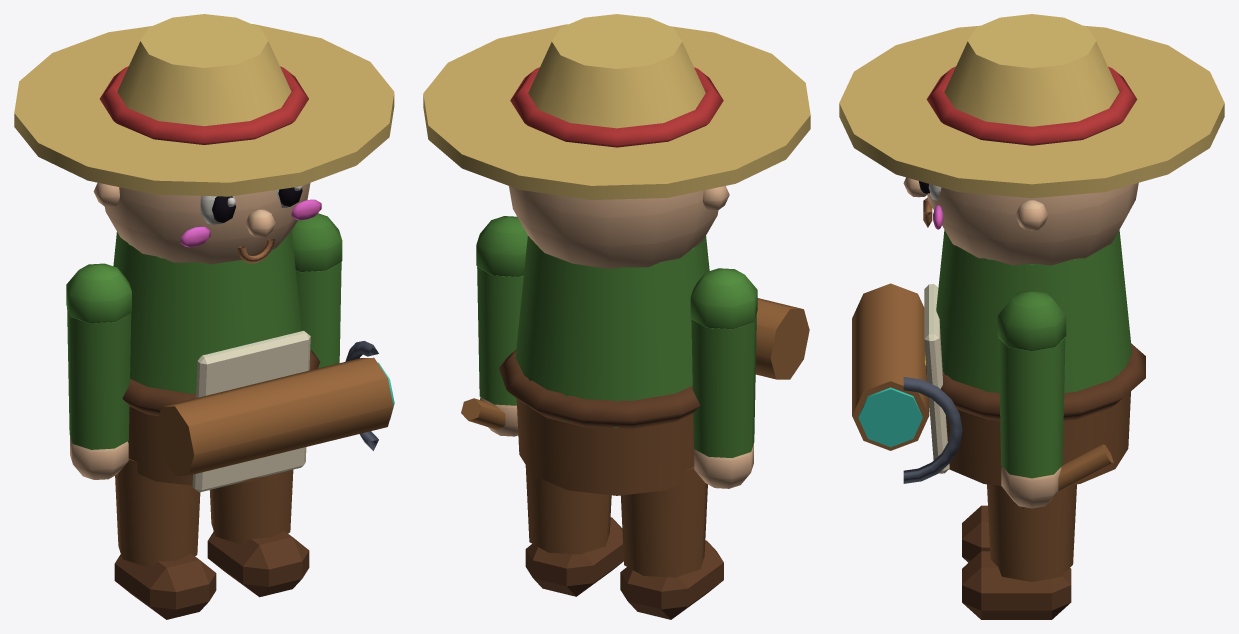
File: villager_farmer.glb
The picture shows the model from 3 angles, left to right: view 1: azimuth 30°, elevation 25°; view 2: azimuth 150°, elevation 25°; view 3: azimuth 270°, elevation 25°; orthographic projection.
Parts seen in each view (by area): view 1: body_t0_palette, carry_t0_palette, arml_t0_palette, legl_t0_palette, legr_t0_palette, armr_t0_palette; view 2: body_t0_palette, arml_t0_palette, legl_t0_palette, legr_t0_palette, armr_t0_palette, carry_t0_palette; view 3: body_t0_palette, armr_t0_palette, legr_t0_palette, carry_t0_palette, legl_t0_palette.
Boxes of the visible parts, x1,y1,x2,y2 form: body_t0_palette: [14, 14, 394, 492]; carry_t0_palette: [156, 357, 394, 475]; arml_t0_palette: [66, 263, 131, 479]; legl_t0_palette: [114, 459, 216, 619]; legr_t0_palette: [207, 469, 309, 597]; armr_t0_palette: [291, 213, 378, 450]; body_t0_palette: [423, 14, 810, 495]; arml_t0_palette: [690, 268, 757, 488]; legl_t0_palette: [620, 467, 723, 619]; legr_t0_palette: [525, 465, 623, 596]; armr_t0_palette: [461, 216, 527, 436]; carry_t0_palette: [755, 298, 809, 379]; body_t0_palette: [839, 14, 1224, 485]; armr_t0_palette: [903, 290, 1113, 509]; legr_t0_palette: [962, 484, 1076, 619]; carry_t0_palette: [852, 283, 929, 450]; legl_t0_palette: [962, 505, 990, 562].
Size of the model in its own units: 0.3 by 0.4705 by 0.3.
